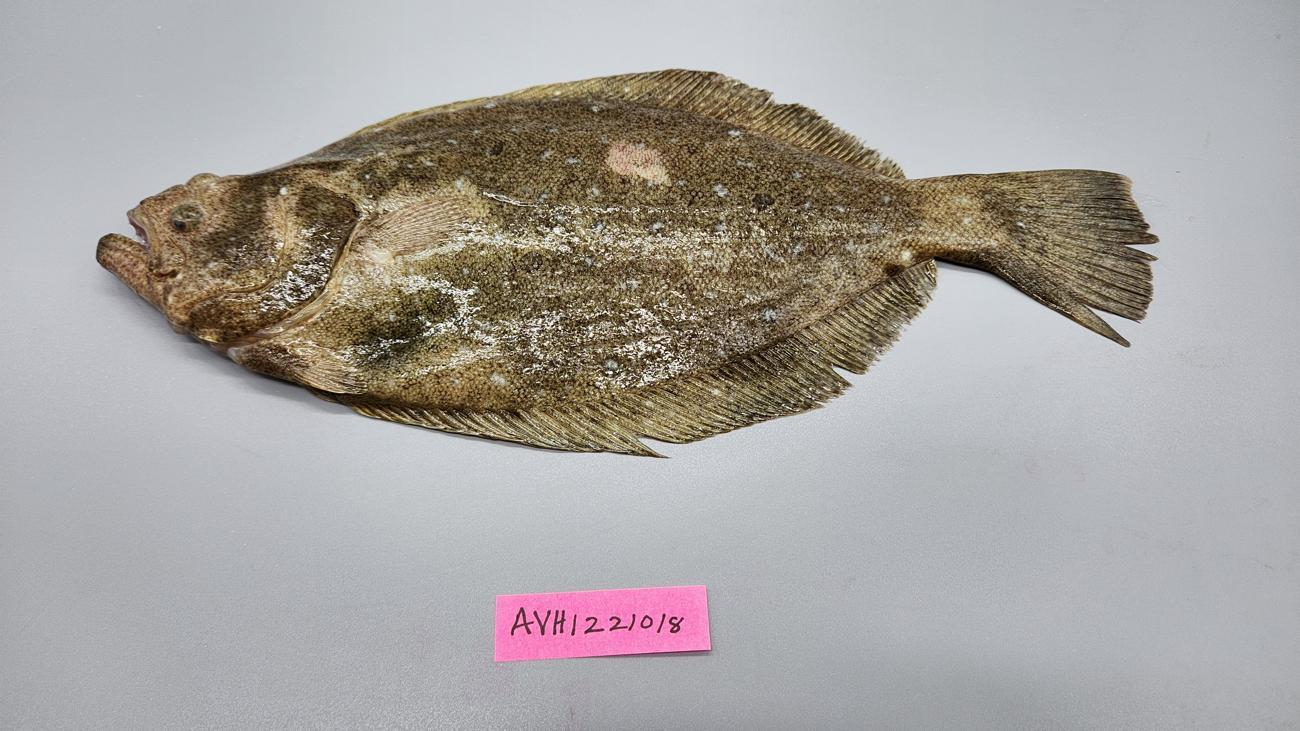VIDYH: (493, 262, 885, 409), (604, 133, 673, 195)
VIDYU: (602, 138, 674, 192)
VIOUY: (98, 69, 1157, 461)
